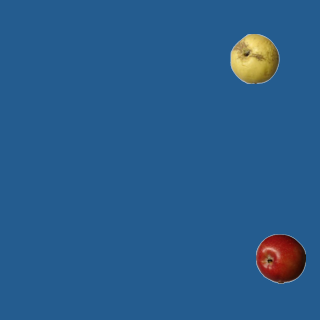Apple Braeburn: (255, 233, 305, 283)
Apple Golden 1: (229, 33, 279, 83)
